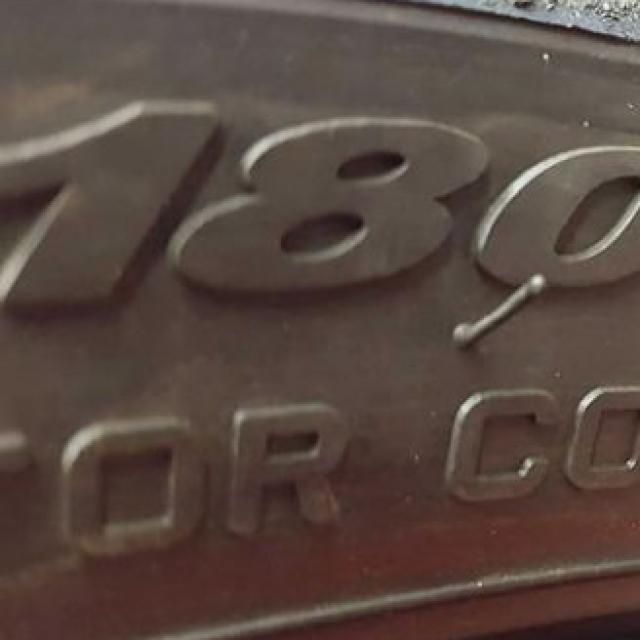Non-defective: (0, 29, 640, 640)
